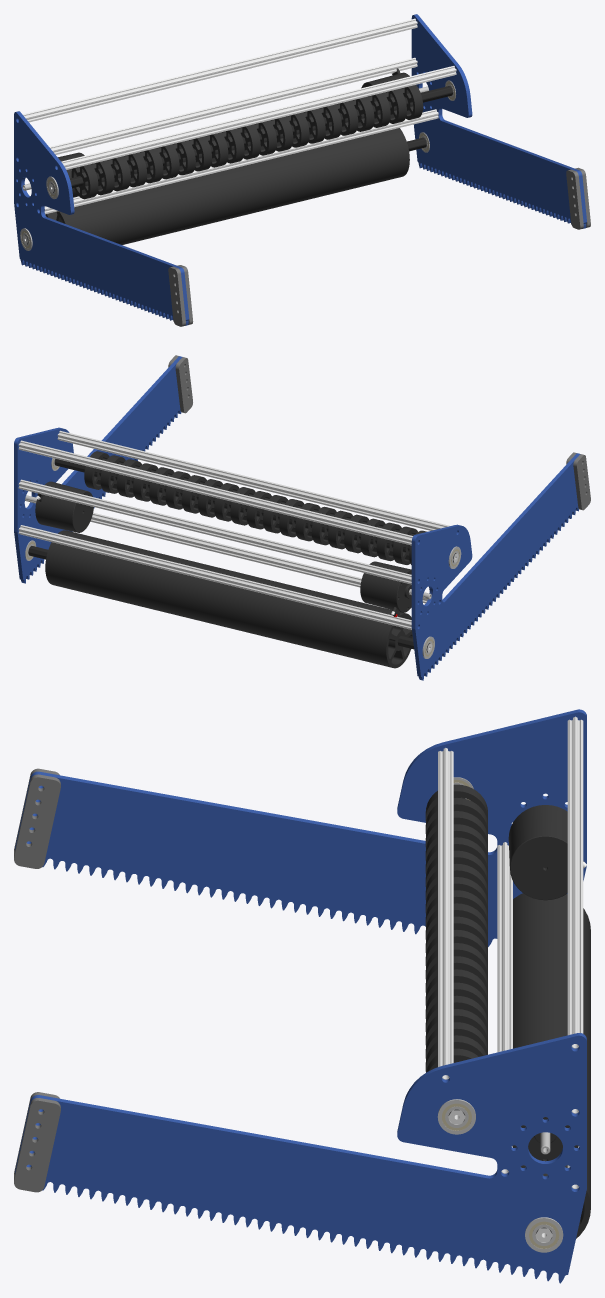
The picture shows the model from 3 angles, top to bottom: view 1: azimuth 30°, elevation 25°; view 2: azimuth 150°, elevation 25°; view 3: azimuth 270°, elevation 25°; orthographic projection. The views are drawn at different scales.
Visible parts, largest first — view 1: Lantern Rack (×2), 3" Thrifty Squish Wheel (45A, 1" Wide, 1/2" Hex Bore) (×21), 1/2" Churro (24.25" L, 6061 Aluminum) (×4), 2" Thrifty Squish Wheel (45A, 1" Wide, 1/2" Hex Bore) (×21), Part 10 (×2), 1/2" Rounded Hex (24.875" L, 13.75mm OD, 7075); view 2: Lantern Rack (×2), 1/2" Churro (24.25" L, 6061 Aluminum) (×5), 3" Thrifty Squish Wheel (45A, 1" Wide, 1/2" Hex Bore) (×21), 2" Thrifty Squish Wheel (45A, 1" Wide, 1/2" Hex Bore) (×20), NEO Brushless Motor V1.1 (×2), Part 10 (×2), 1/2" Rounded Hex (24.875" L, 13.75mm OD, 7075); view 3: Lantern Rack (×2), 1/2" Churro (24.25" L, 6061 Aluminum) (×3), 3" Thrifty Squish Wheel (45A, 1" Wide, 1/2" Hex Bore) (×10), NEO Brushless Motor V1.1 (×2), Part 10 (×2), 1/2" Rounded Hex (13.75mm) ID Bearing (1.125" OD, 0.313" WD, (×2).
Boxes of the visible parts, x1=… form: Lantern Rack (×2): x1=14, y1=14, x2=586, y2=325; 3" Thrifty Squish Wheel (45A, 1" Wide, 1/2" Hex Bore) (×21): x1=45, y1=128, x2=409, y2=244; 1/2" Churro (24.25" L, 6061 Aluminum) (×4): x1=22, y1=18, x2=456, y2=214; 2" Thrifty Squish Wheel (45A, 1" Wide, 1/2" Hex Bore) (×21): x1=71, y1=85, x2=423, y2=199; Part 10 (×2): x1=168, y1=169, x2=583, y2=326; 1/2" Rounded Hex (24.875" L, 13.75mm OD, 7075): x1=49, y1=86, x2=452, y2=192; Lantern Rack (×2): x1=14, y1=356, x2=580, y2=680; 1/2" Churro (24.25" L, 6061 Aluminum) (×5): x1=18, y1=430, x2=449, y2=629; 3" Thrifty Squish Wheel (45A, 1" Wide, 1/2" Hex Bore) (×21): x1=45, y1=530, x2=412, y2=668; 2" Thrifty Squish Wheel (45A, 1" Wide, 1/2" Hex Bore) (×20): x1=84, y1=451, x2=417, y2=564; NEO Brushless Motor V1.1 (×2): x1=25, y1=481, x2=431, y2=617; Part 10 (×2): x1=175, y1=357, x2=590, y2=510; 1/2" Rounded Hex (24.875" L, 13.75mm OD, 7075): x1=54, y1=458, x2=458, y2=562; Lantern Rack (×2): x1=15, y1=709, x2=586, y2=1283; 1/2" Churro (24.25" L, 6061 Aluminum) (×3): x1=438, y1=716, x2=583, y2=1173; 3" Thrifty Squish Wheel (45A, 1" Wide, 1/2" Hex Bore) (×10): x1=513, y1=901, x2=590, y2=1073; NEO Brushless Motor V1.1 (×2): x1=508, y1=805, x2=586, y2=1161; Part 10 (×2): x1=14, y1=774, x2=60, y2=1192; 1/2" Rounded Hex (13.75mm) ID Bearing (1.125" OD, 0.313" WD, (×2): x1=437, y1=1099, x2=563, y2=1252.
Size of the model in its own units: 0.6391 by 0.2223 by 0.4693.
